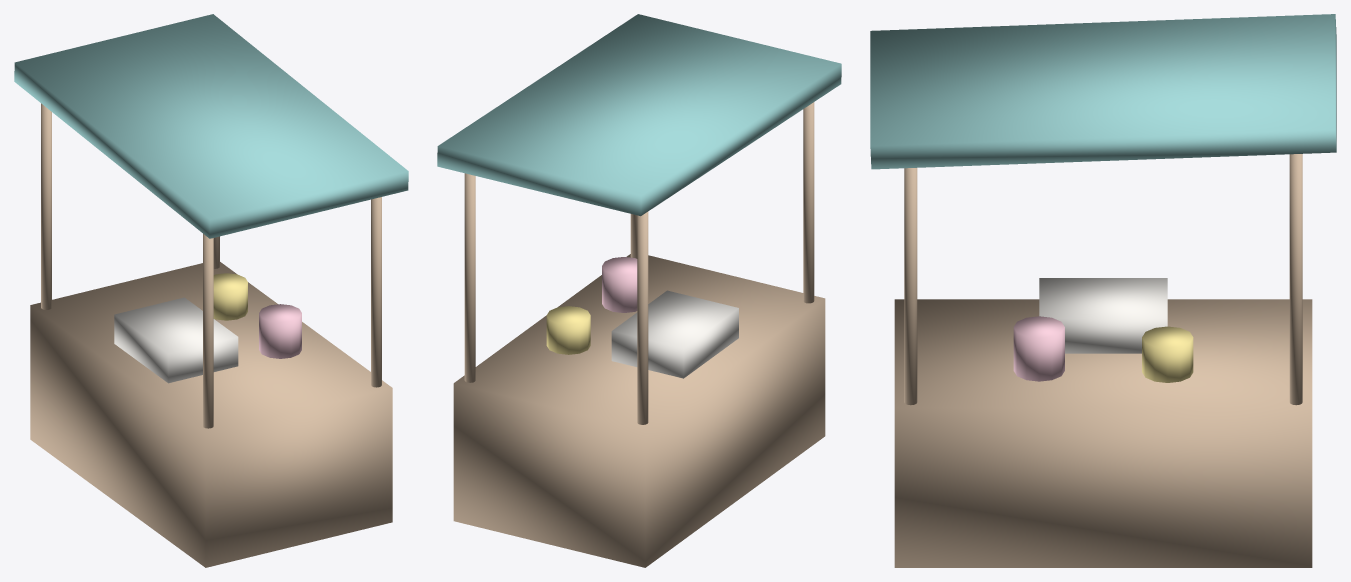
File: market_stall.glb
3 views of the same model, side by side, from view 1: azimuth 30°, elevation 25°; view 2: azimuth 150°, elevation 25°; view 3: azimuth 270°, elevation 25° (orthographic). The views are drawn at different scales.
Parts seen in each view (by area): view 1: table, canopy, fruit_crate, pole_fl, jar_1, pole_rl, pole_rr, jar_2; view 2: table, canopy, fruit_crate, pole_fl, pole_fr, pole_rl, jar_2, jar_1; view 3: table, canopy, fruit_crate, pole_fr, pole_rr, jar_1, jar_2.
Part boxes in pixels (box(x1,y1,x2,y2)): table: box(30, 262, 392, 567); canopy: box(14, 14, 408, 238); fruit_crate: box(114, 297, 238, 383); pole_fl: box(41, 103, 51, 309); jar_1: box(259, 304, 301, 358); pole_rl: box(203, 234, 213, 428); pole_rr: box(371, 197, 381, 387); jar_2: box(213, 273, 247, 320); table: box(453, 254, 825, 567); canopy: box(437, 14, 841, 216); fruit_crate: box(611, 290, 738, 378); pole_fl: box(637, 211, 648, 424); pole_fr: box(464, 173, 475, 382); pole_rl: box(803, 102, 814, 303); jar_2: box(546, 306, 590, 354); jar_1: box(602, 257, 637, 312); table: box(894, 299, 1312, 567); canopy: box(870, 14, 1336, 169); fruit_crate: box(1039, 278, 1167, 353); pole_fr: box(1289, 154, 1302, 405); pole_rr: box(904, 168, 917, 405); jar_1: box(1013, 316, 1064, 381); jar_2: box(1142, 326, 1193, 382).
Bounding box in the file's own units: 0.85 × 1.52 × 1.45.
